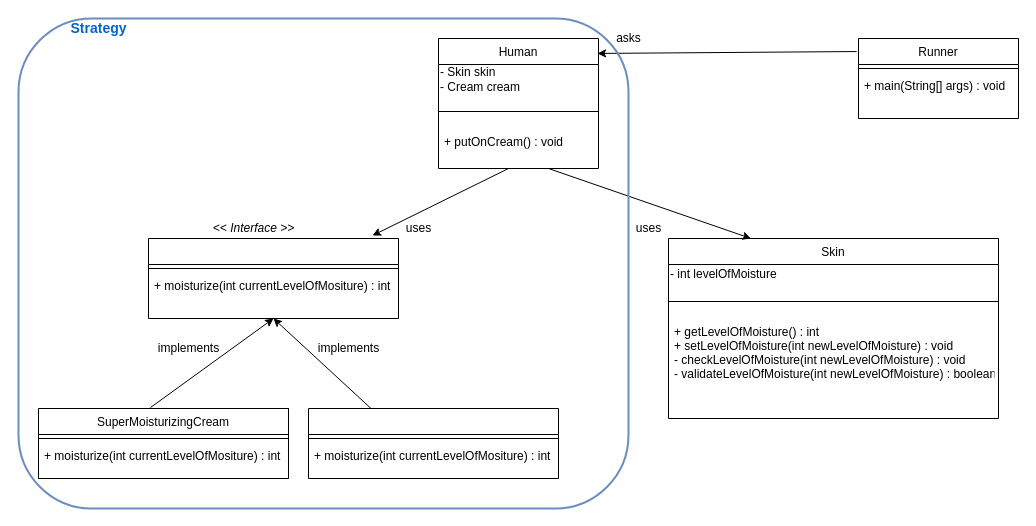
Some shapes in this 1036 by 526 pixel diagram are drawn without their labels. The shapes that lost their labels are listed below. From the top down, each one's box as (x1, y1, x2, y2) in pixels, then its label:
(148, 238, 398, 318): Cream
(308, 408, 558, 478): MoisturizingCream
